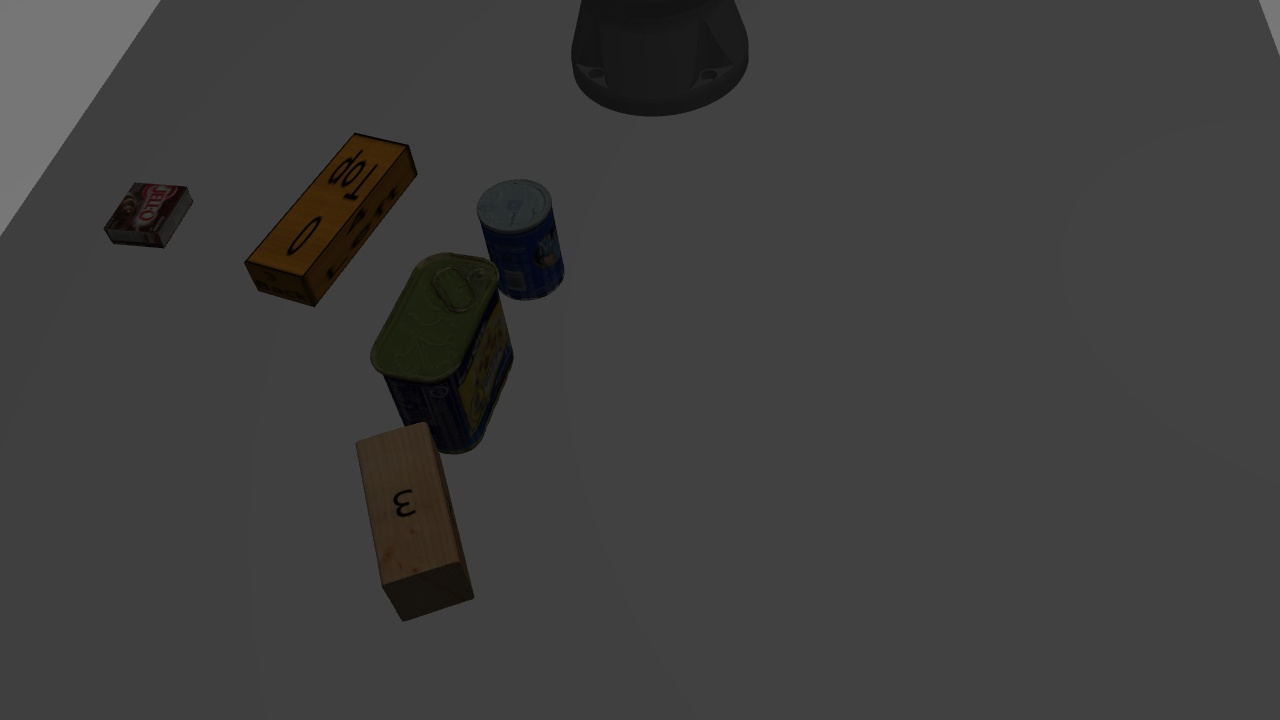jenga: (252, 124, 400, 306)
master_chef_can: (474, 171, 572, 297)
potted_meat_can: (375, 253, 519, 450)
pudding_box: (101, 178, 192, 251)
wood_block: (352, 418, 485, 621)
